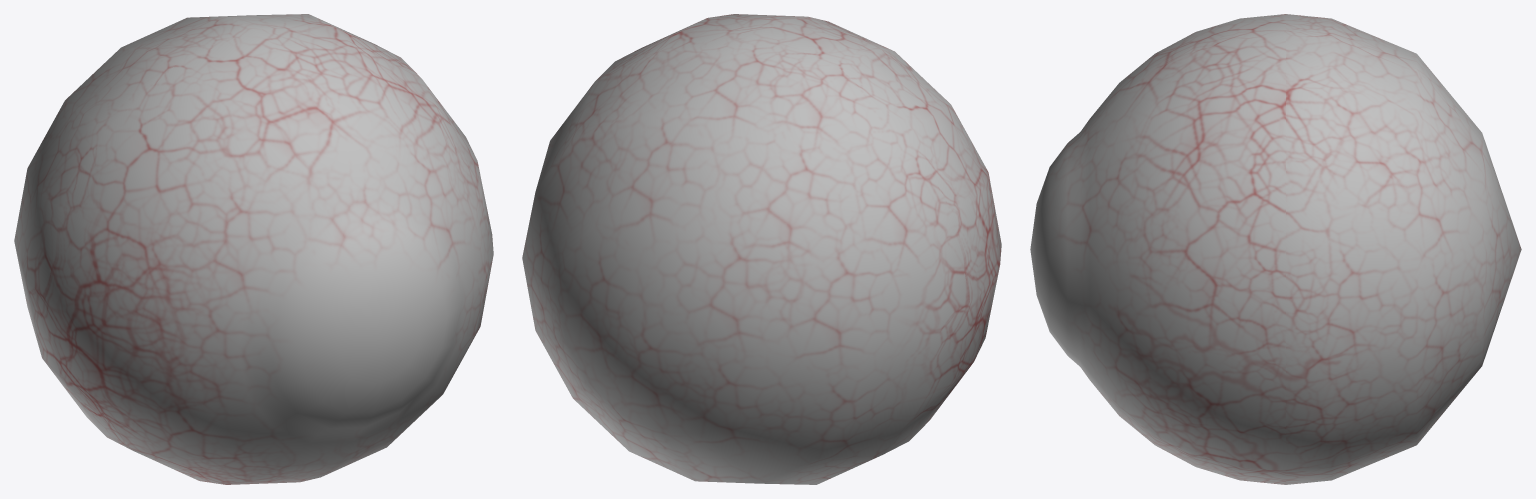
File: eyeball.glb
3 views of the same model, side by side, from view 1: azimuth 30°, elevation 25°; view 2: azimuth 150°, elevation 25°; view 3: azimuth 270°, elevation 25° (orthographic).
Visible parts, largest first — view 1: polySurface7; view 2: polySurface7; view 3: polySurface7.
Boxes of the visible parts, x1,y1,x2,y2 form: polySurface7: [14, 14, 493, 484]; polySurface7: [522, 14, 1001, 484]; polySurface7: [1030, 14, 1521, 484].
Size of the model in its own units: 0.1716 by 0.1716 by 0.1788.
2 materials, 2 textured.
